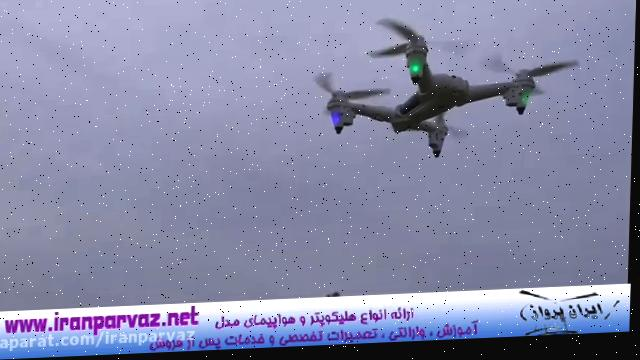drone: (303, 5, 590, 169)
